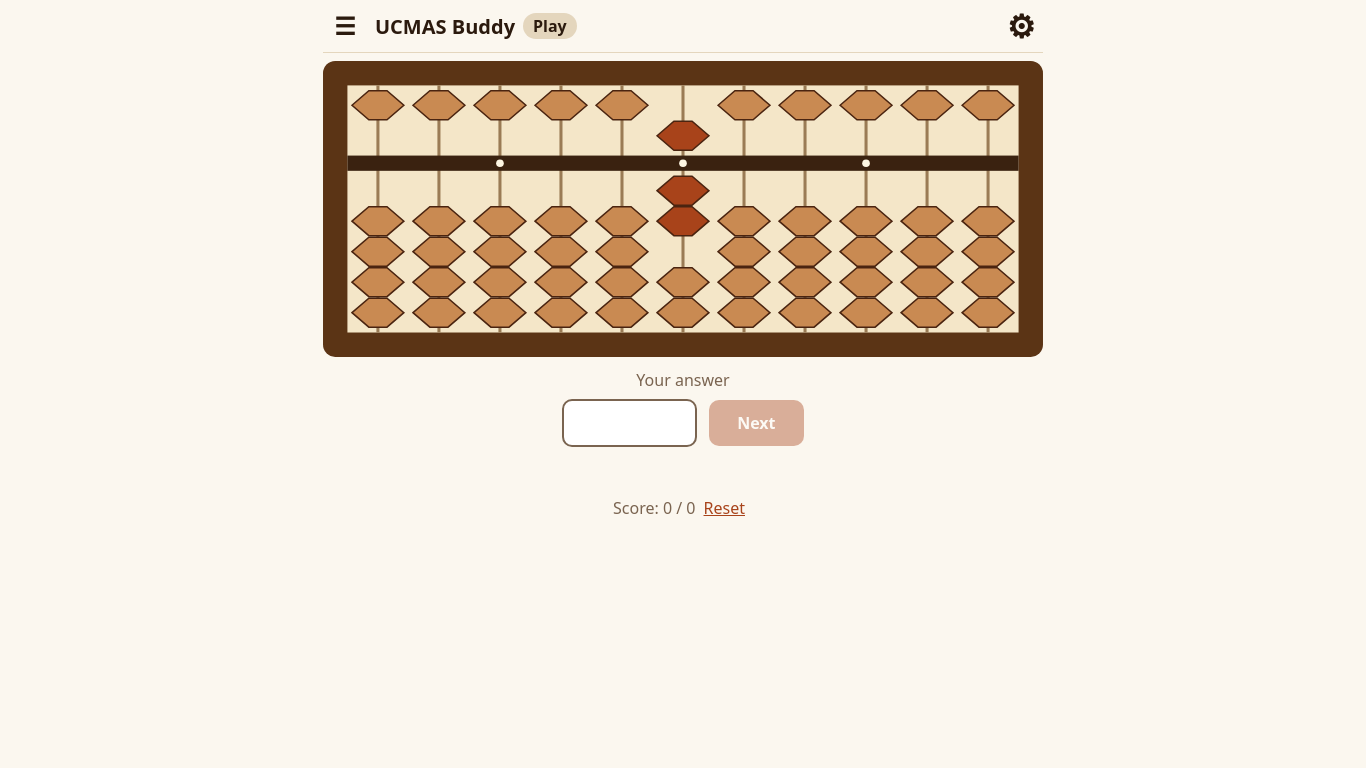
Scenario: <App> › closes settings with Escape
This screenshot has width=1366, height=768.
Step 1. Click the button named "open settings" → (1021, 26), box [999,4,1043,48]
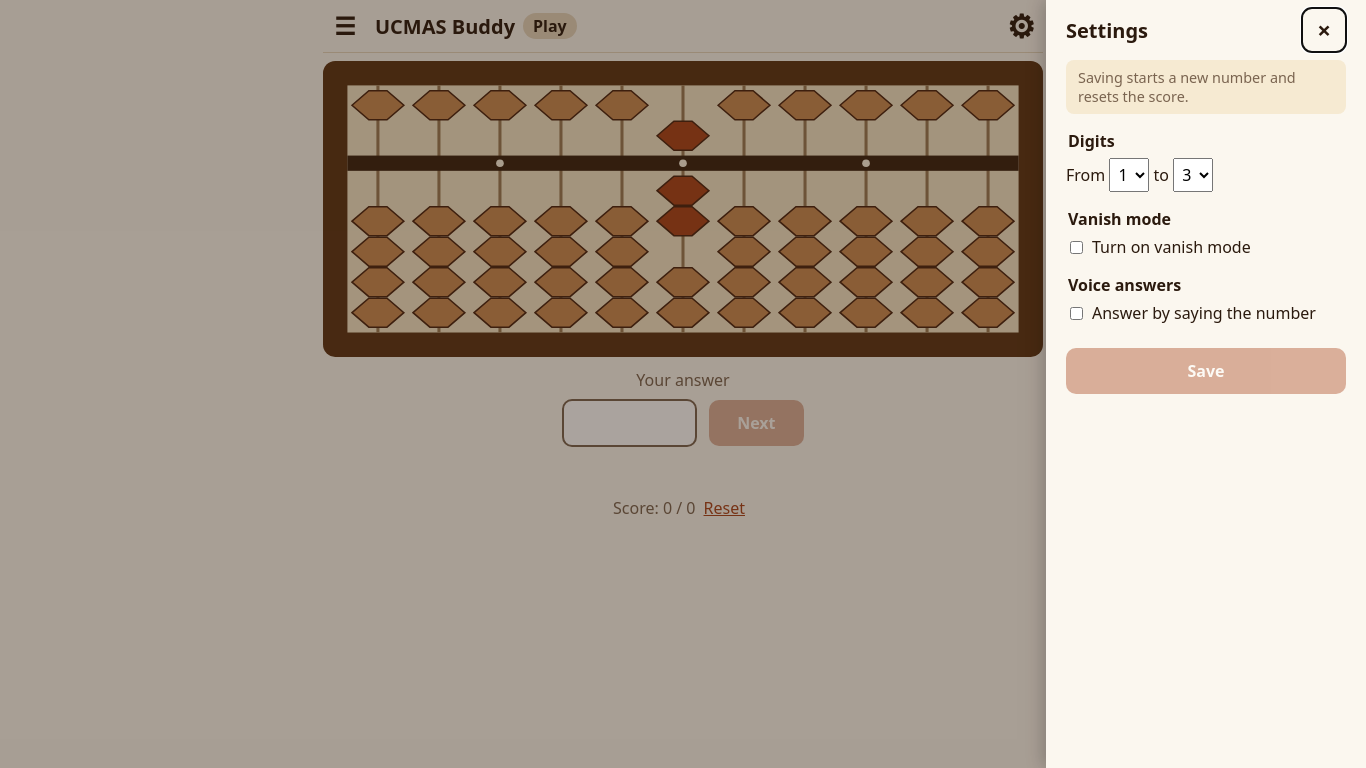
Step 2. Press Escape
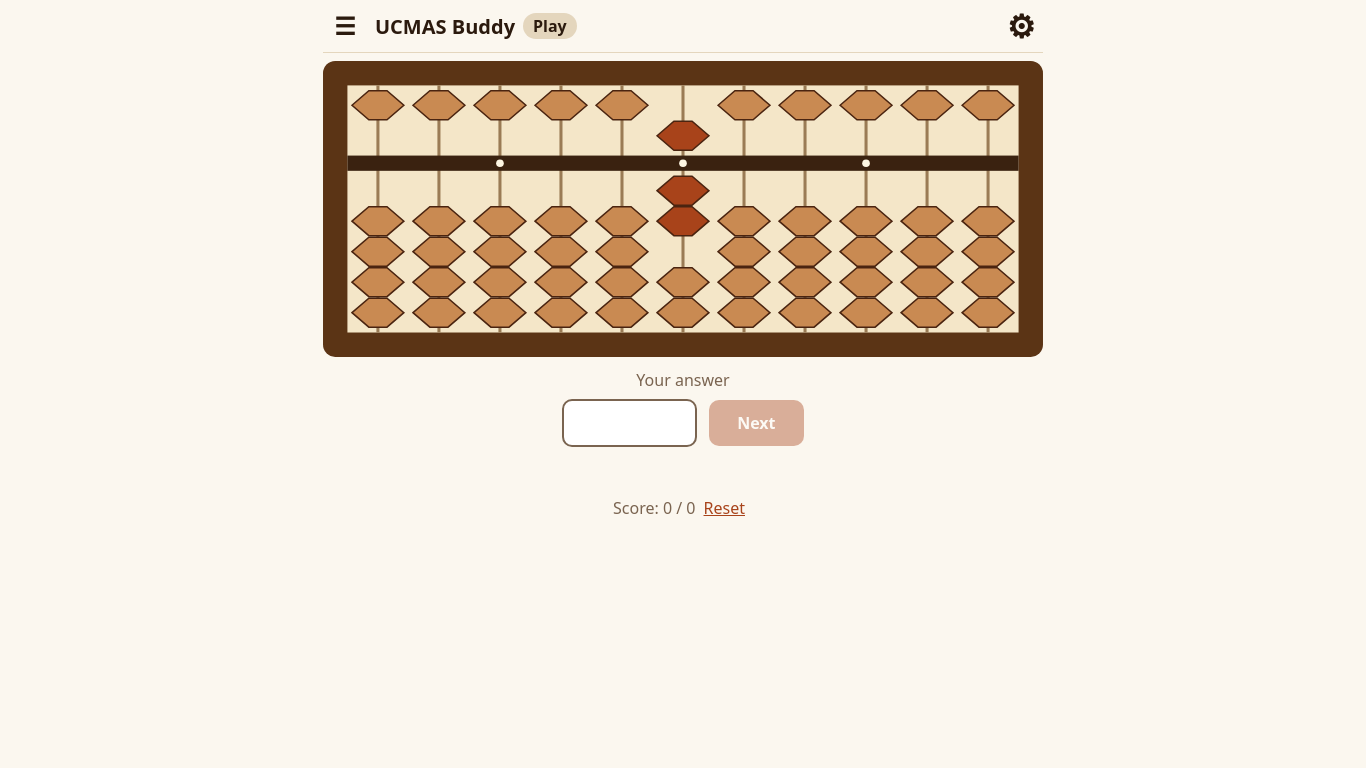
Expected: the dialog is gone
